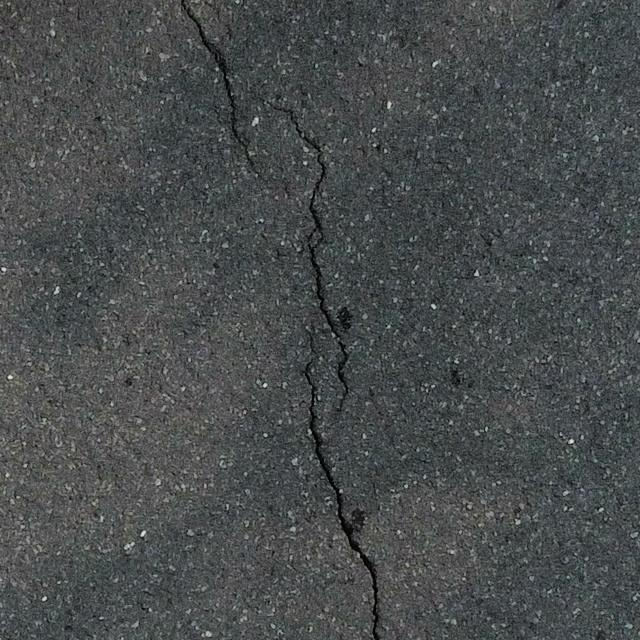LongitudinalCrack: (269, 99, 356, 412), (297, 333, 383, 640), (182, 4, 258, 176)
